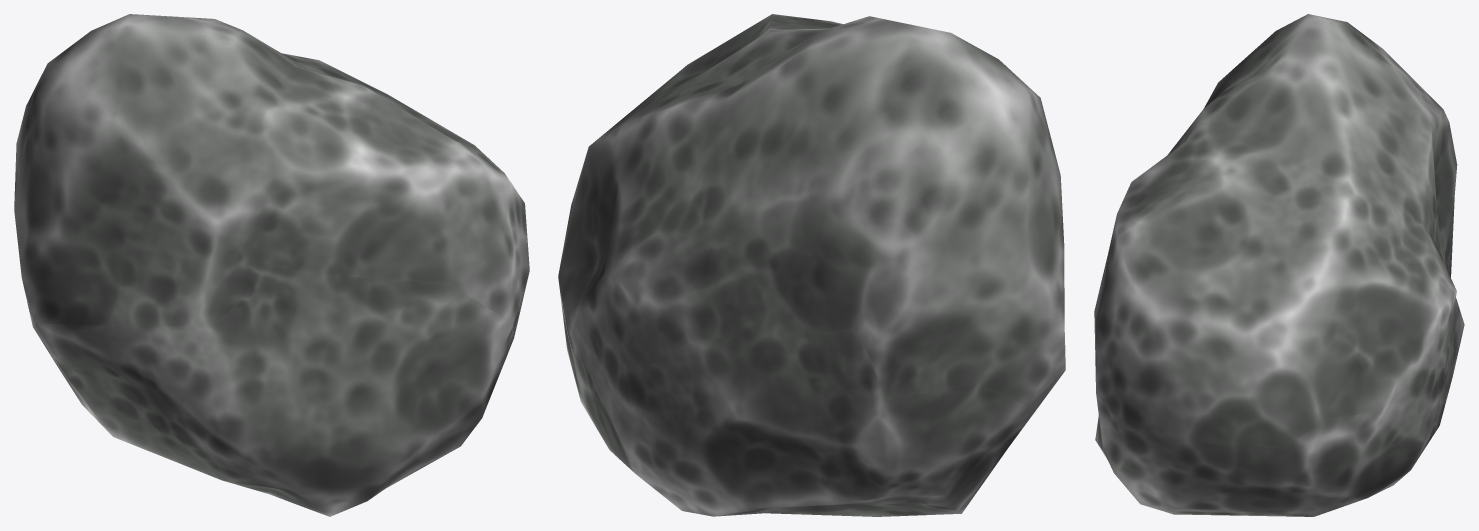
Rendered from SmallMeteo1.fbx.
3 renders of one model, left to right at view 1: azimuth 30°, elevation 25°; view 2: azimuth 150°, elevation 25°; view 3: azimuth 270°, elevation 25°, orthographic. The views are drawn at different scales.
Visible parts, largest first — view 1: Meteorite_06; view 2: Meteorite_06; view 3: Meteorite_06.
Boxes of the visible parts, bbox=[...] form: Meteorite_06: bbox=[14, 14, 529, 516]; Meteorite_06: bbox=[558, 14, 1065, 516]; Meteorite_06: bbox=[1094, 14, 1464, 516].
Size of the model in its own units: 590 by 602 by 470.
